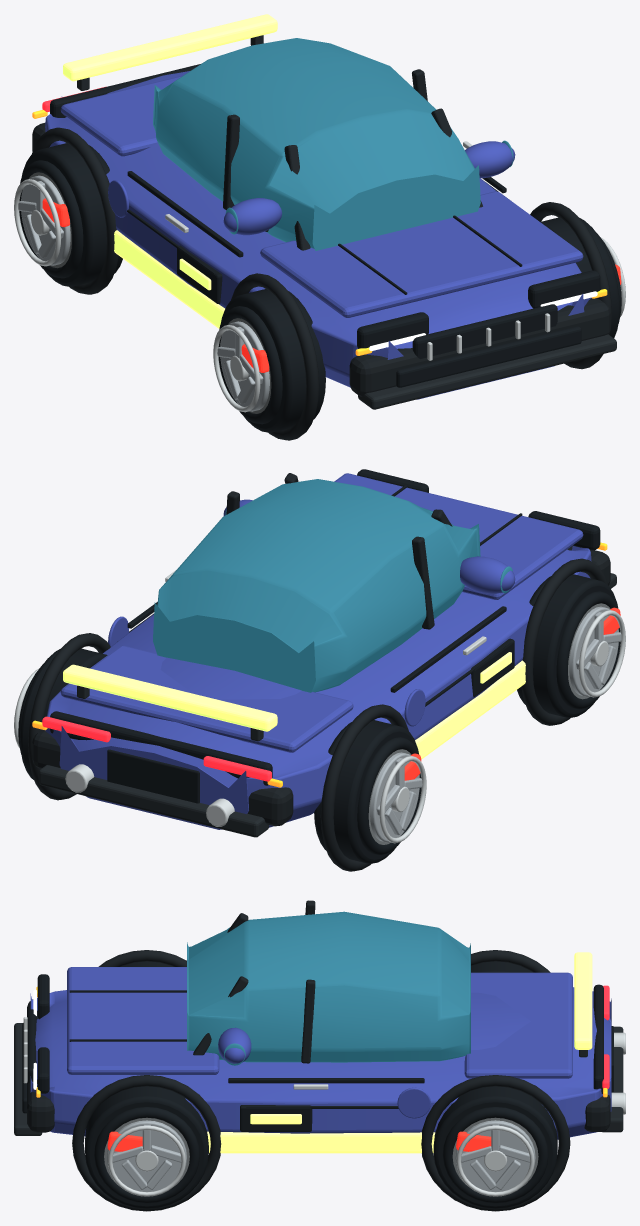
File: midnight_gt.glb
3 views of the same model, one above another, from view 1: azimuth 30°, elevation 25°; view 2: azimuth 150°, elevation 25°; view 3: azimuth 270°, elevation 25° (orthographic). The views are drawn at different scales.
Visible parts, largest first — view 1: continuous smoked glass cabin, sculpted one-piece body shell, front hood skin, left wheel tire, rear deck skin, rear spoiler blade, left wheel tire.001, front bumper fascia, front carbon splitter, lower front intake surround, upper front grille surround, left front fender arch bead (+20 smaller); view 2: continuous smoked glass cabin, sculpted one-piece body shell, rear deck skin, front hood skin, left wheel tire.001, rear spoiler blade, left wheel tire, rear diffuser center, rear plate shadow recess, left rear fender arch bead, left front fender arch bead, left aerodynamic side sill (+21 smaller); view 3: continuous smoked glass cabin, sculpted one-piece body shell, front hood skin, rear deck skin, right aerodynamic side sill, right wheel tire, right wheel tire.001, right rear fender arch bead, right front fender arch bead, right tire sidewall bead, right tire sidewall bead.001, right machined wheel hub.001 (+26 smaller).
Part boxes in pixels (bbox=[...]): continuous smoked glass cabin: bbox=[153, 38, 480, 250]; sculpted one-piece body shell: bbox=[45, 71, 591, 399]; front hood skin: bbox=[260, 191, 583, 317]; left wheel tire: bbox=[221, 289, 325, 432]; rear deck skin: bbox=[60, 75, 182, 156]; rear spoiler blade: bbox=[63, 14, 277, 81]; left wheel tire.001: bbox=[21, 143, 122, 286]; front bumper fascia: bbox=[349, 298, 610, 396]; front carbon splitter: bbox=[358, 334, 616, 409]; lower front intake surround: bbox=[396, 326, 581, 387]; upper front grille surround: bbox=[412, 304, 557, 358]; left front fender arch bead: bbox=[231, 273, 319, 440]; continuous smoked glass cabin: bbox=[153, 479, 480, 692]; sculpted one-piece body shell: bbox=[45, 545, 591, 829]; rear deck skin: bbox=[60, 645, 353, 752]; front hood skin: bbox=[334, 473, 583, 599]; left wheel tire.001: bbox=[314, 720, 418, 863]; rear spoiler blade: bbox=[63, 664, 277, 731]; left wheel tire: bbox=[517, 574, 618, 717]; rear diffuser center: bbox=[38, 765, 269, 837]; rear plate shadow recess: bbox=[107, 749, 199, 803]; left rear fender arch bead: bbox=[320, 704, 408, 871]; left front fender arch bead: bbox=[521, 558, 608, 725]; left aerodynamic side sill: bbox=[415, 660, 525, 759]; continuous smoked glass cabin: bbox=[187, 911, 470, 1062]; sculpted one-piece body shell: bbox=[30, 987, 611, 1139]; front hood skin: bbox=[67, 967, 219, 1074]; rear deck skin: bbox=[464, 972, 572, 1078]; right aerodynamic side sill: bbox=[207, 1131, 435, 1153]; right wheel tire: bbox=[85, 1086, 208, 1208]; right wheel tire.001: bbox=[433, 1086, 557, 1208]; right rear fender arch bead: bbox=[421, 1075, 570, 1211]; right front fender arch bead: bbox=[72, 1075, 221, 1211]; right tire sidewall bead: bbox=[94, 1107, 199, 1203]; right tire sidewall bead.001: bbox=[442, 1107, 548, 1203]; right machined wheel hub.001: bbox=[455, 1120, 535, 1191].
Size of the model in its own units: 2.89 by 1.85 by 4.74.
